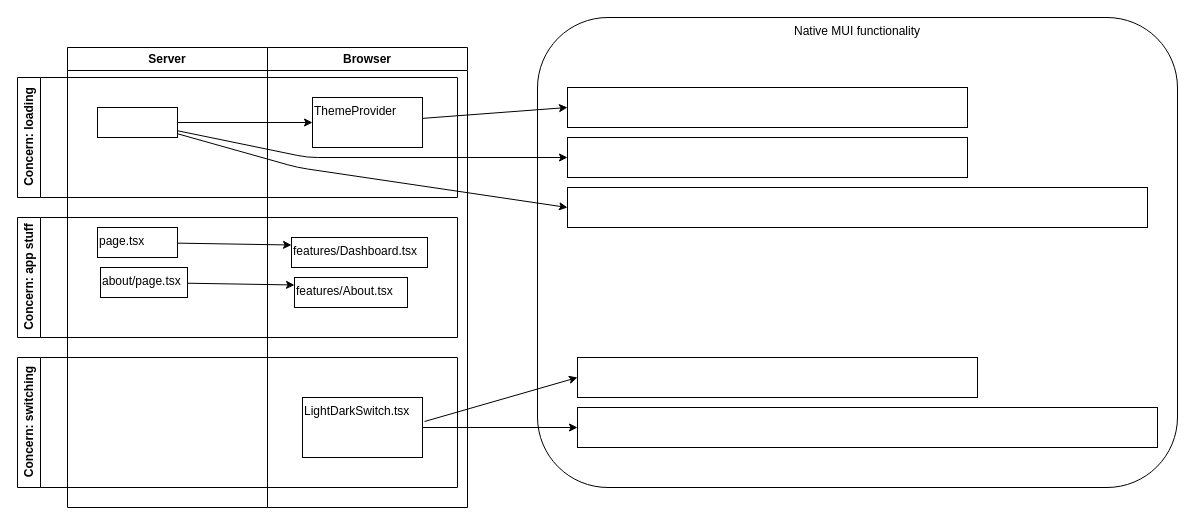
Some shapes in this 1195 by 525 pixel diagram are drawn without their labels. The centre of each missing label's shape, as x and y in pixels:
< html lang = "en" suppressHydrationWarning >: point (767, 157)
< InitColorSchemeScript attribute = "class" defaultMode = "light" />: point (857, 207)
const { mode , setMode } = useColorScheme (); // 'system' | 'light' | 'dark': point (867, 427)
import theme from '@/theme' ;: point (767, 107)
layout.tsx: point (137, 122)
useMediaQuery ( '(prefers-color-scheme: dark)' );: point (777, 377)
